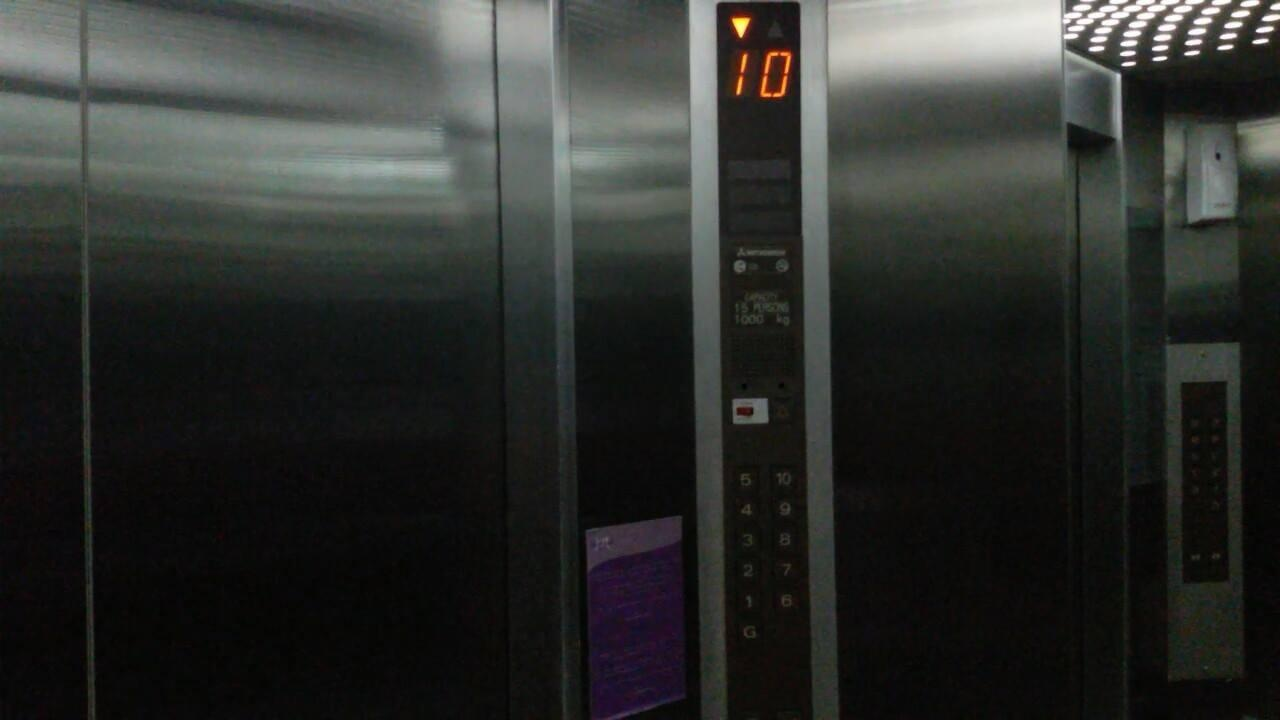1: (734, 590, 765, 613)
10: (767, 465, 802, 491)
2: (733, 558, 764, 581)
3: (732, 525, 764, 550)
4: (731, 495, 762, 519)
5: (729, 465, 763, 492)
6: (770, 589, 801, 612)
7: (770, 558, 801, 581)
8: (769, 528, 800, 551)
9: (768, 495, 801, 520)
G: (735, 621, 766, 644)
alarm: (770, 396, 795, 425)
led: (713, 1, 804, 118)
switch: (730, 397, 770, 426)
